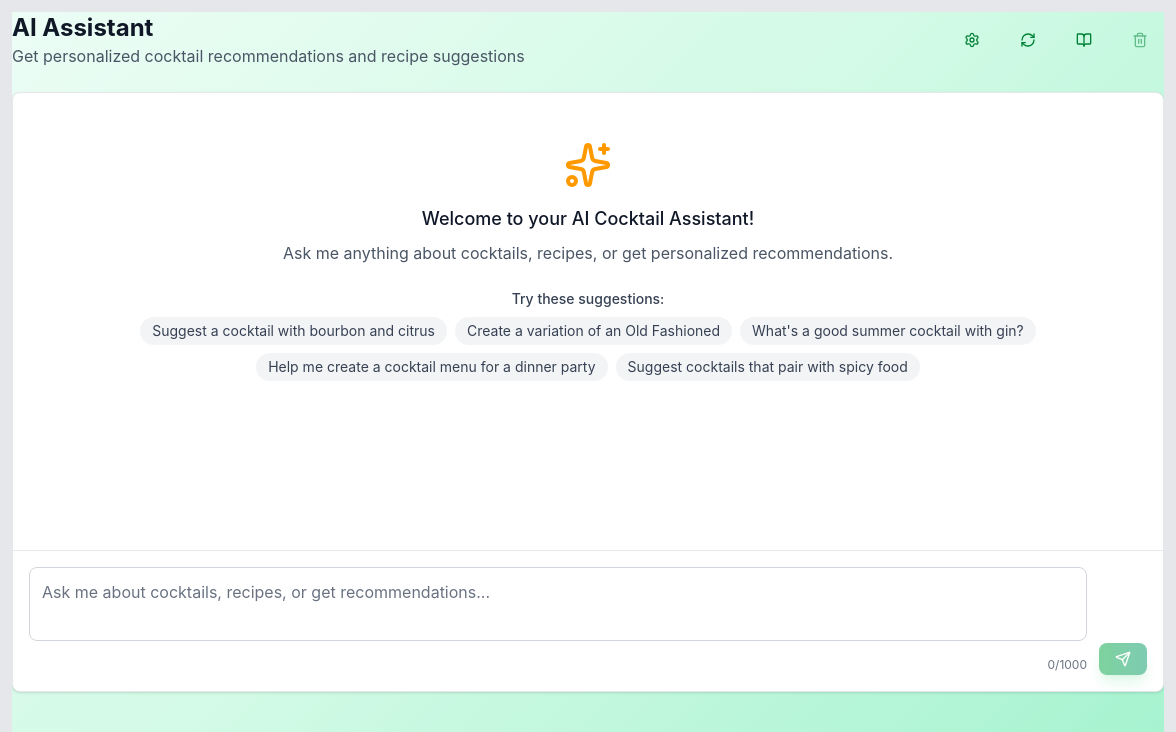
AIAssistant Component › handles suggested prompt clicks
Click the button "Suggest a cocktail with bourbon and citrus" at (294, 331), box [140, 317, 447, 345]
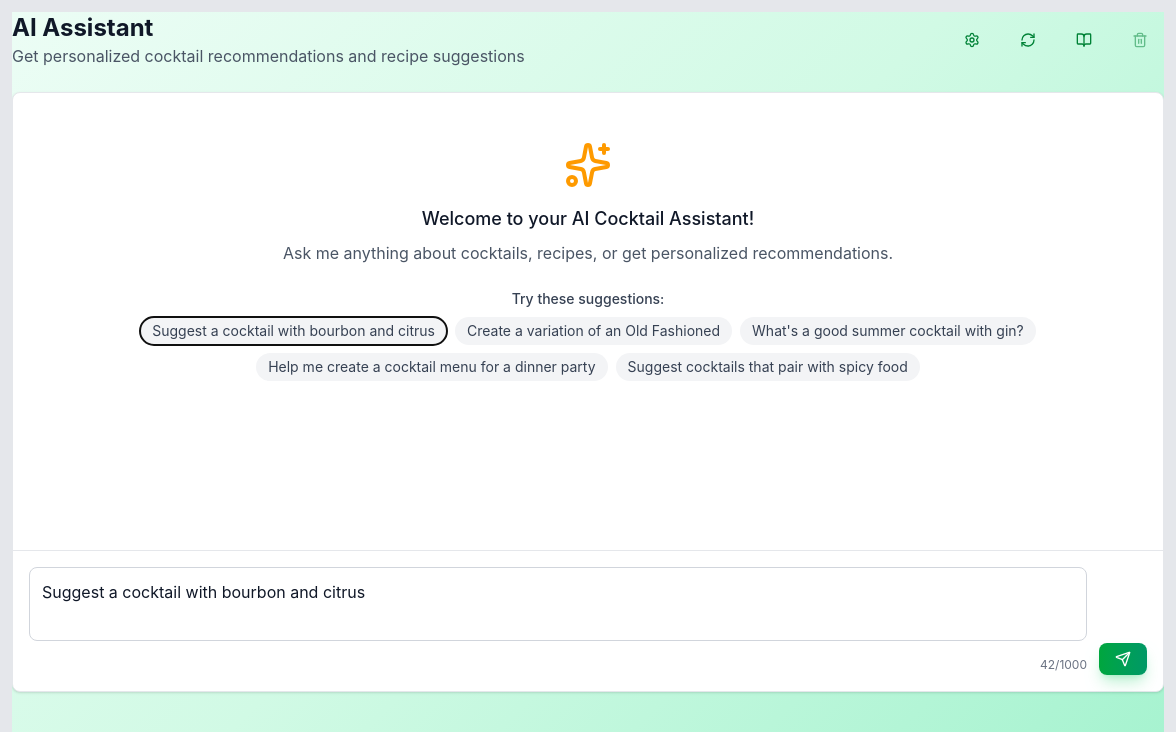
Expected: the text box with placeholder "Ask me about cocktails, recipes, or get recommendations..." holds "Suggest a cocktail with bourbon and citrus", [29, 567, 1087, 641]
